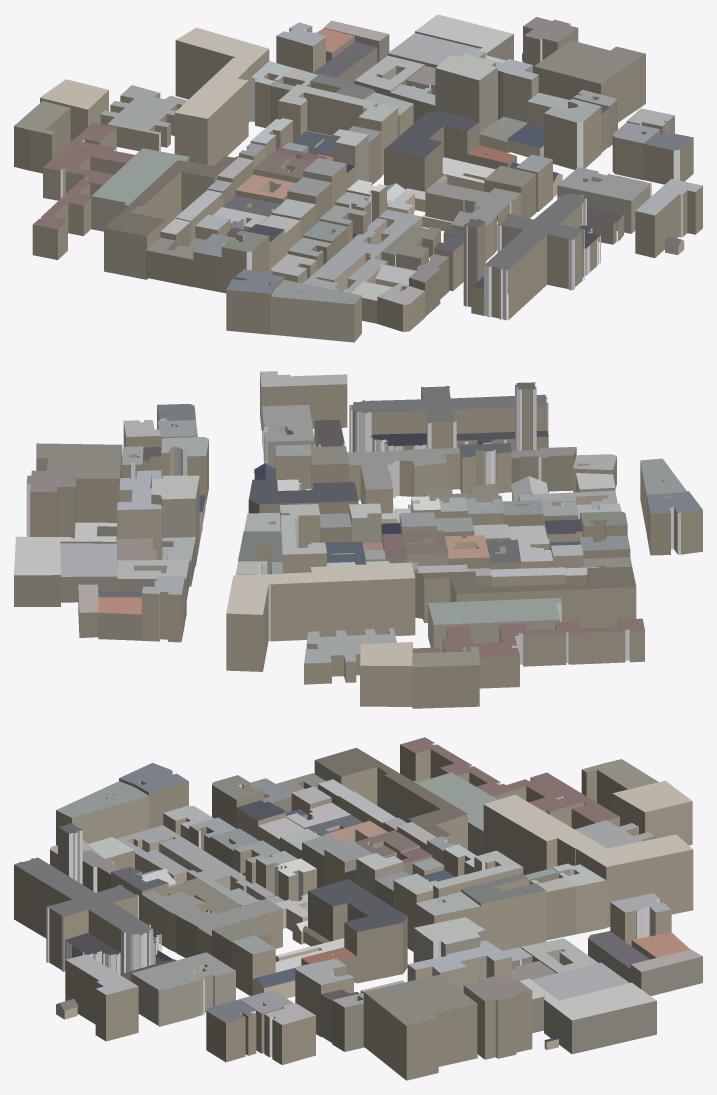
The picture shows the model from 3 angles, top to bottom: view 1: azimuth 30°, elevation 25°; view 2: azimuth 150°, elevation 25°; view 3: azimuth 270°, elevation 25°; orthographic projection. The views are drawn at different scales.
Parts seen in each view (by area): view 1: tuile; view 2: tuile; view 3: tuile.
Part boxes in pixels (bbox=[...]): tuile: bbox=[14, 14, 702, 342]; tuile: bbox=[14, 371, 702, 708]; tuile: bbox=[14, 737, 702, 1080].
Size of the model in its own units: 314 by 42.58 by 285.
